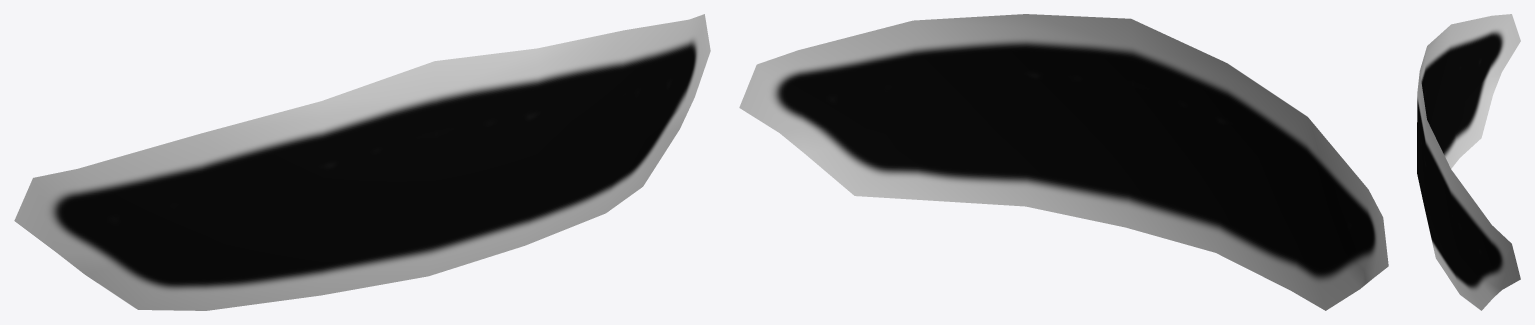
Rendered from moustache.obj.
3 views of the same model, side by side, from view 1: azimuth 30°, elevation 25°; view 2: azimuth 150°, elevation 25°; view 3: azimuth 270°, elevation 25° (orthographic). The views are drawn at different scales.
Visible parts, largest first — view 1: Moustache; view 2: Moustache; view 3: Moustache.
Part boxes in pixels (box(x1,y1,x2,y2)): Moustache: box(14, 14, 710, 310); Moustache: box(739, 14, 1388, 310); Moustache: box(1417, 14, 1520, 310).
Size of the model in its own units: 1.27 by 0.3874 by 0.2345.
Materials: 1 (1 with a texture image).
